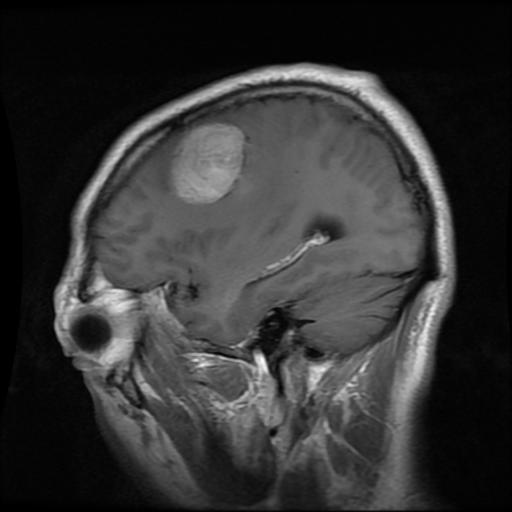Menigiomia_tumour: (170, 121, 244, 202)
